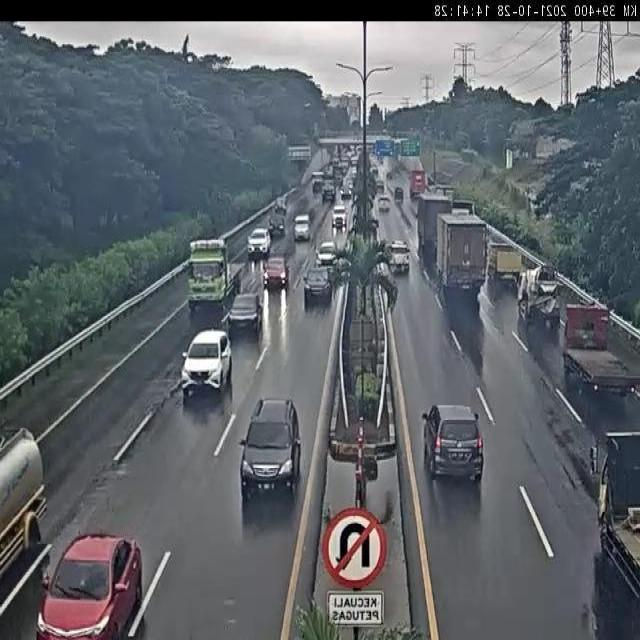Car: (33, 528, 147, 640), (239, 395, 303, 504), (420, 401, 488, 489), (178, 328, 234, 392), (260, 252, 291, 292)
Truck: (564, 292, 638, 409), (0, 416, 48, 580), (188, 235, 244, 314), (436, 211, 488, 295)
Van: (291, 212, 312, 242)
